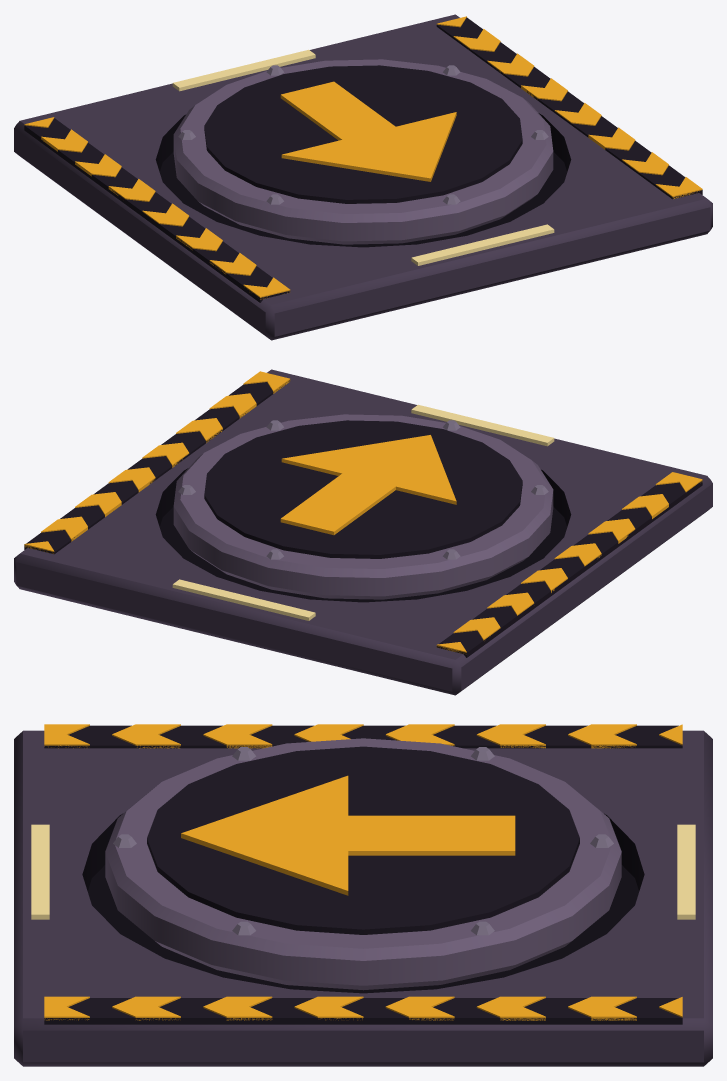
The model's file is trap_bumper__lower.glb.
3 views of the same model, one above another, from view 1: azimuth 30°, elevation 25°; view 2: azimuth 150°, elevation 25°; view 3: azimuth 270°, elevation 25° (orthographic). The views are drawn at different scales.
Parts seen in each view (by area): view 1: Base, Pad; view 2: Base, Pad; view 3: Base, Pad.
Boxes of the visible parts, bbox=[...] form: Base: bbox=[14, 14, 712, 340]; Pad: bbox=[173, 59, 553, 244]; Base: bbox=[14, 369, 712, 695]; Pad: bbox=[173, 414, 553, 599]; Base: bbox=[14, 724, 712, 1066]; Pad: bbox=[105, 738, 621, 990].
Bounding box in the file's own units: 0.92 × 0.13 × 0.92.
